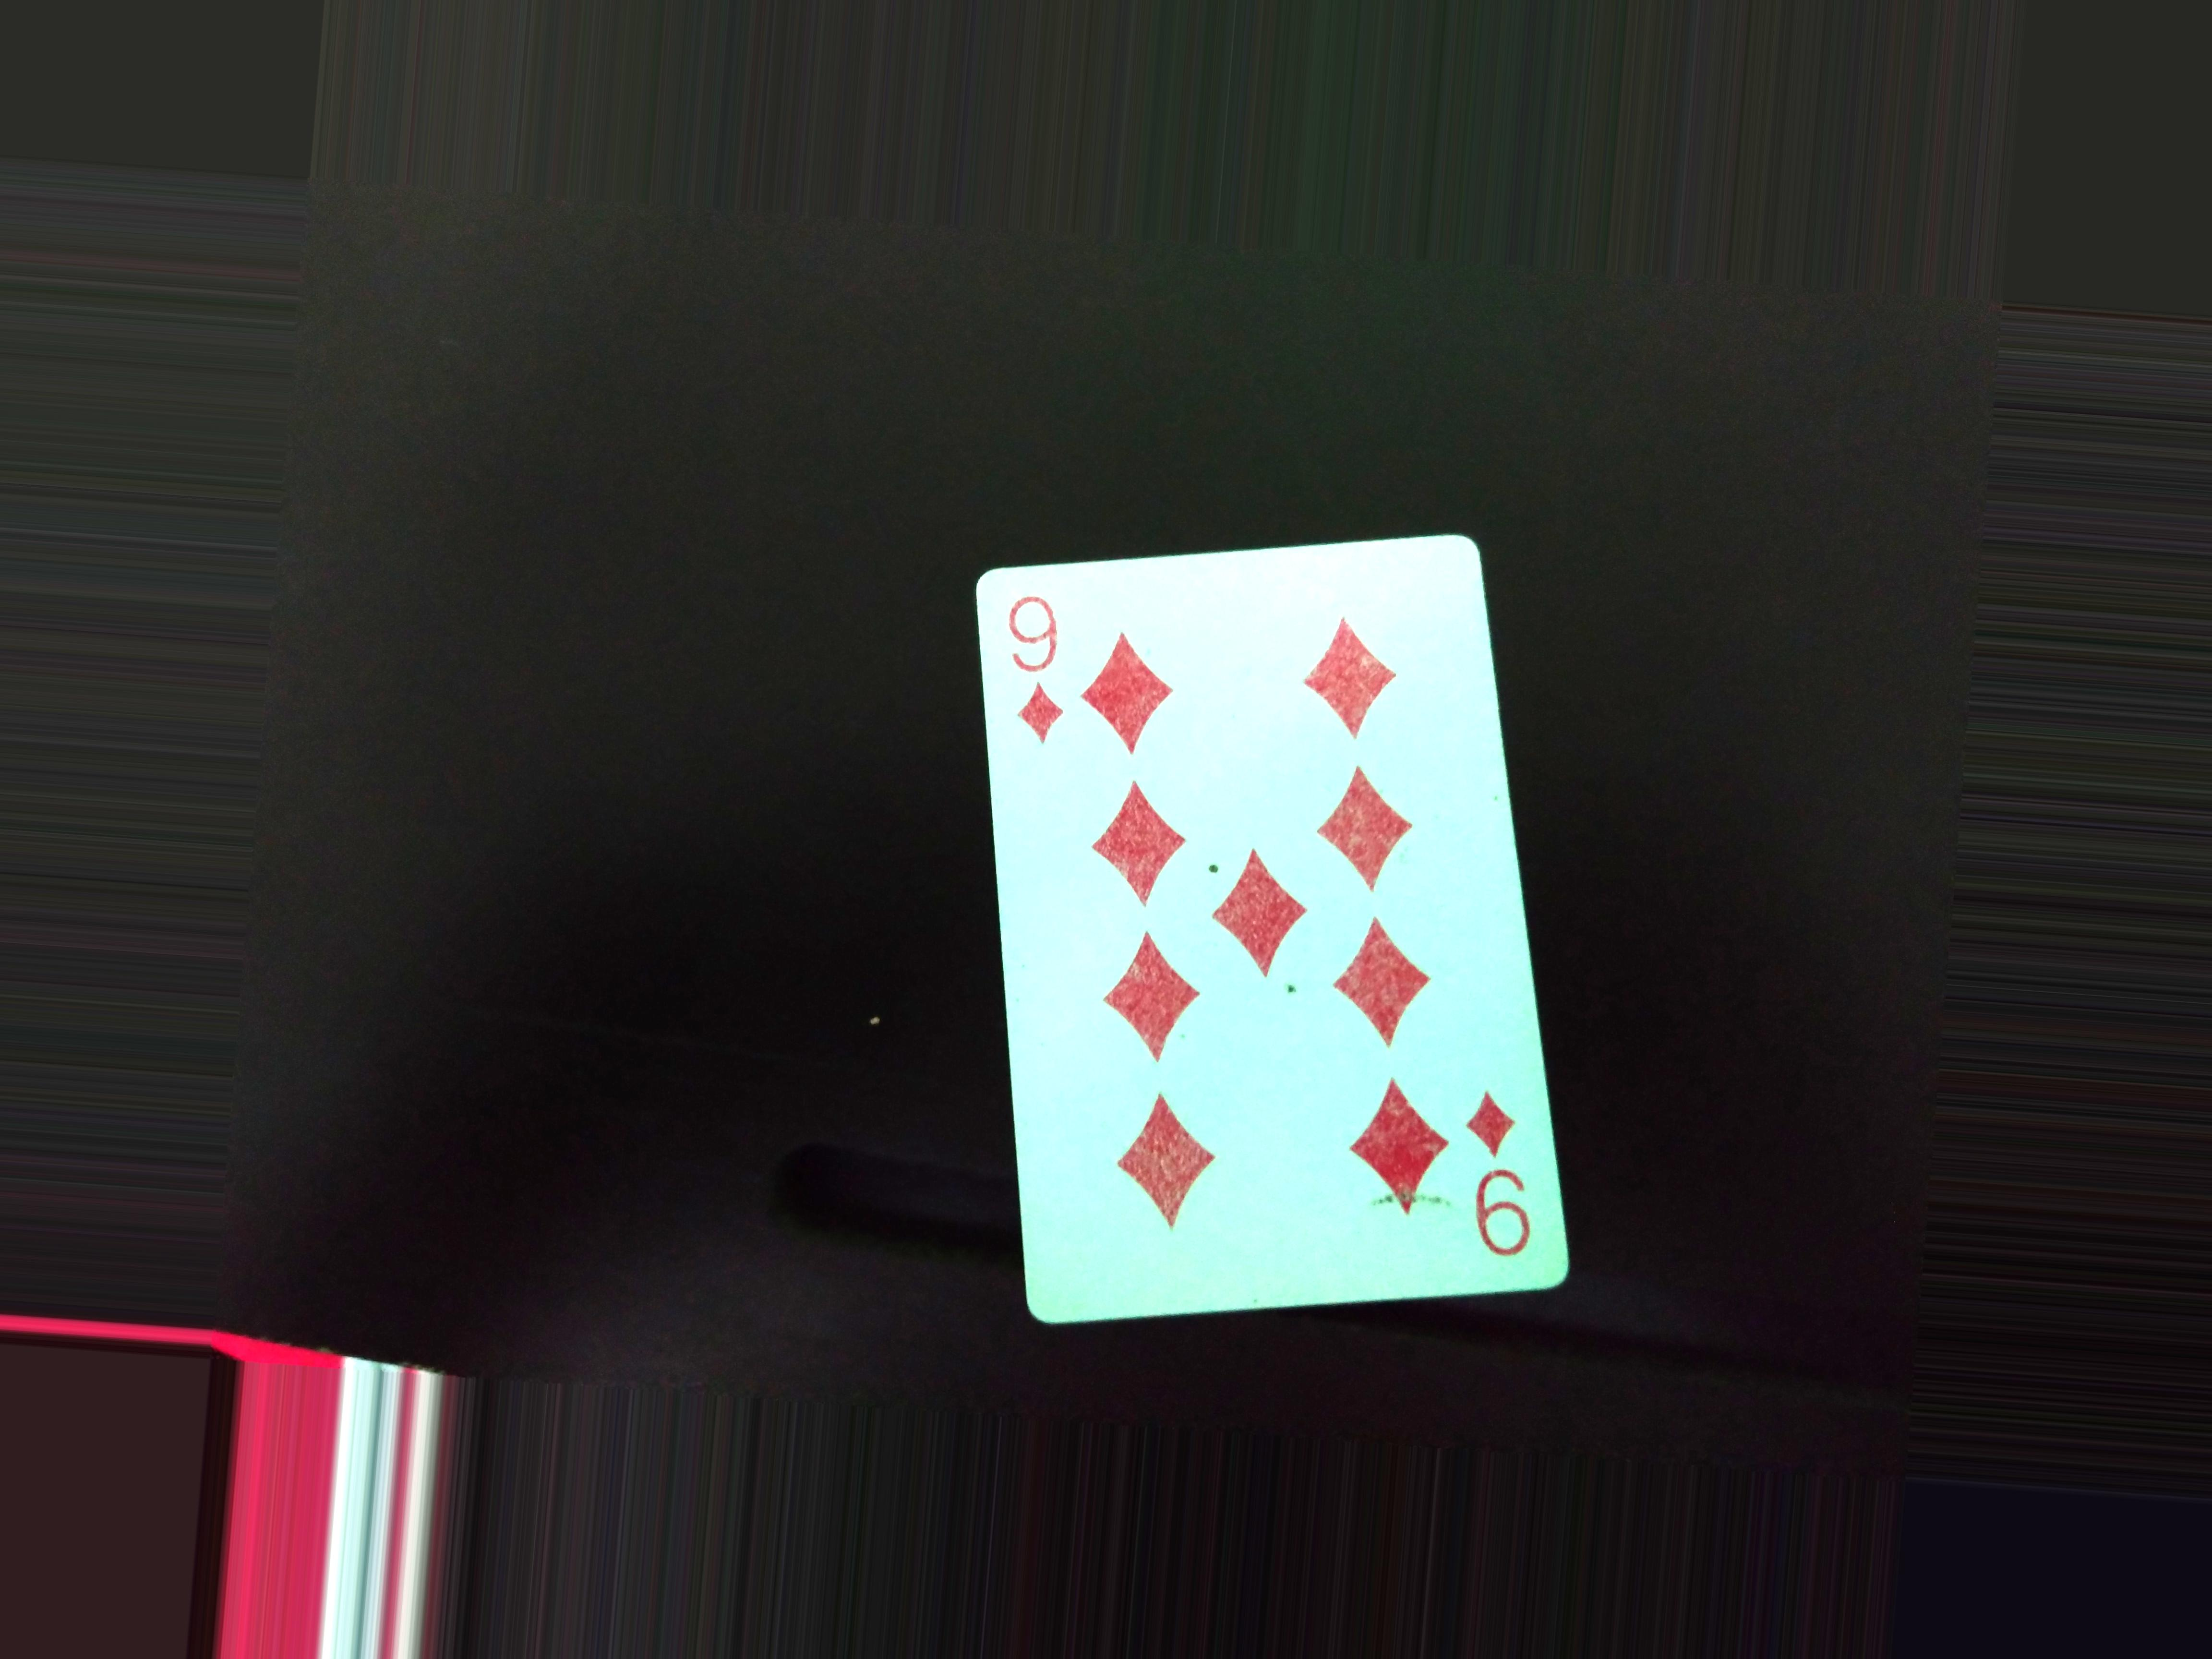9D: (1005, 582, 1073, 751)
